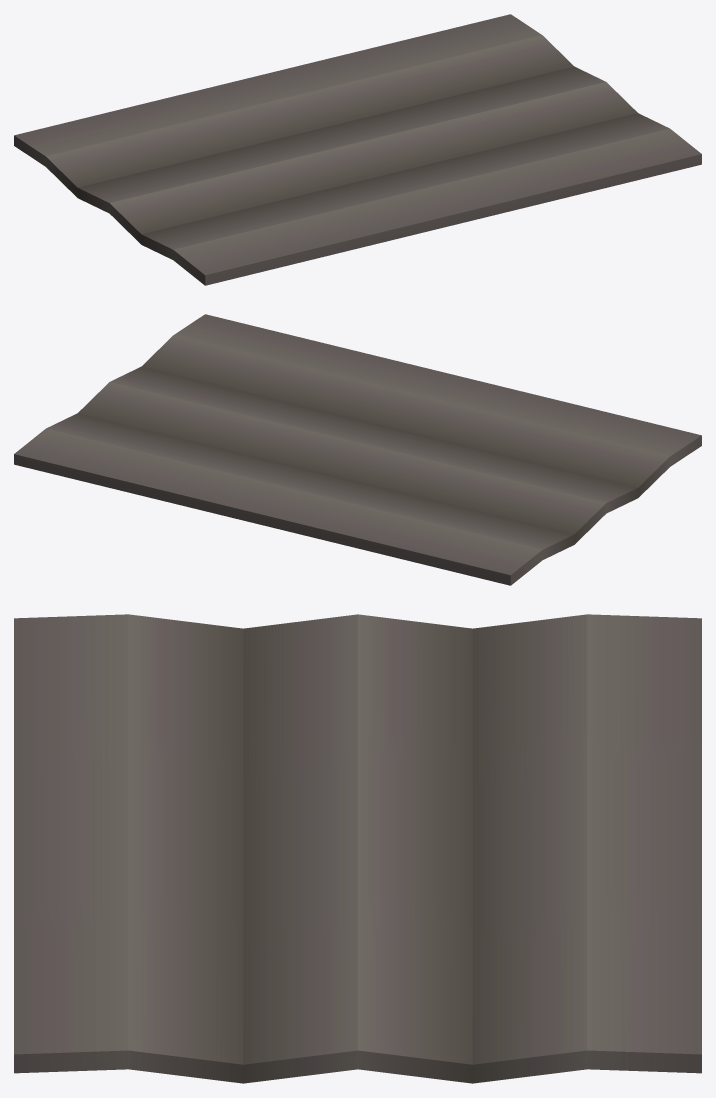
Rendered from asset_Chapa.fbx.
The picture shows the model from 3 angles, top to bottom: view 1: azimuth 30°, elevation 25°; view 2: azimuth 150°, elevation 25°; view 3: azimuth 270°, elevation 25°; orthographic projection. The views are drawn at different scales.
Parts seen in each view (by area): view 1: chapa; view 2: chapa; view 3: chapa.
Part boxes in pixels (x1,y1,x2,y2): chapa: (14,14,701,285); chapa: (14,314,701,585); chapa: (14,614,701,1083).
Size of the model in its own units: 300 by 10.63 by 200.
